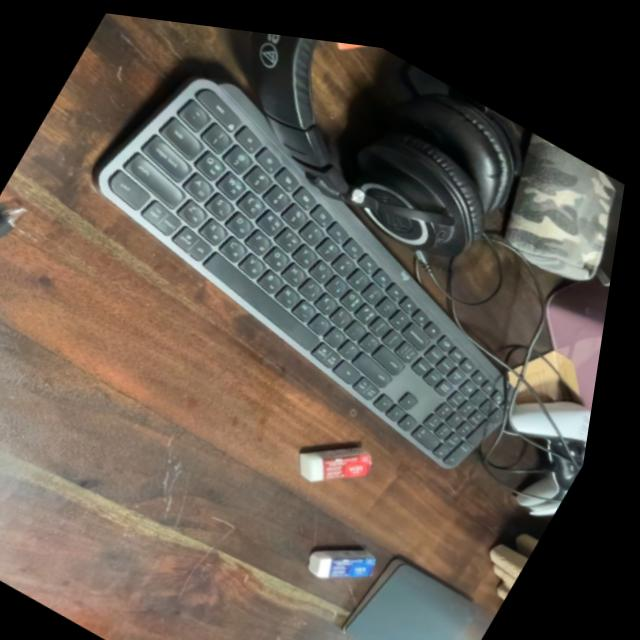blue: (307, 509, 405, 597)
red: (294, 406, 398, 499)
